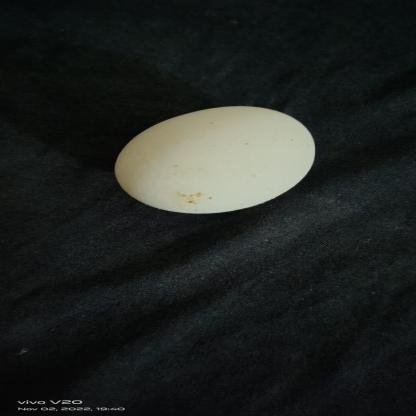egg: (116, 102, 318, 214)
